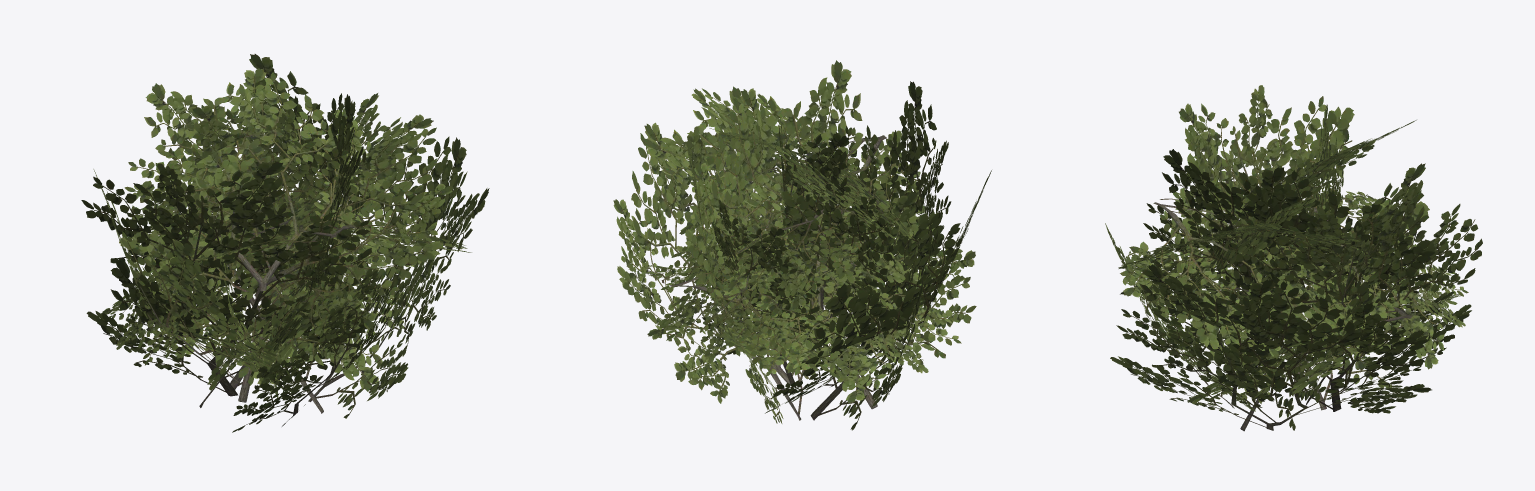
File: runtime-saltbush-1.glb
The picture shows the model from 3 angles, left to right: view 1: azimuth 30°, elevation 25°; view 2: azimuth 150°, elevation 25°; view 3: azimuth 270°, elevation 25°; orthographic projection. The views are drawn at different scales.
Parts seen in each view (by area): view 1: Bush-01_13; view 2: Bush-01_13; view 3: Bush-01_13.
Part boxes in pixels (bbox=[...]): Bush-01_13: bbox=[81, 54, 489, 432]; Bush-01_13: bbox=[613, 60, 991, 430]; Bush-01_13: bbox=[1105, 85, 1482, 431].
Bounding box in the file's own units: 1.45 × 1.03 × 1.39.
5 materials, 5 textured.
